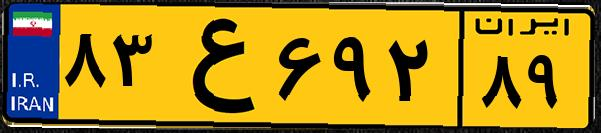2: (385, 28, 445, 110)
3: (110, 28, 158, 98)
6: (270, 28, 330, 110)
8: (57, 26, 110, 100), (475, 38, 525, 113)
9: (330, 28, 385, 110), (525, 38, 570, 115)
ع: (158, 12, 270, 120)
